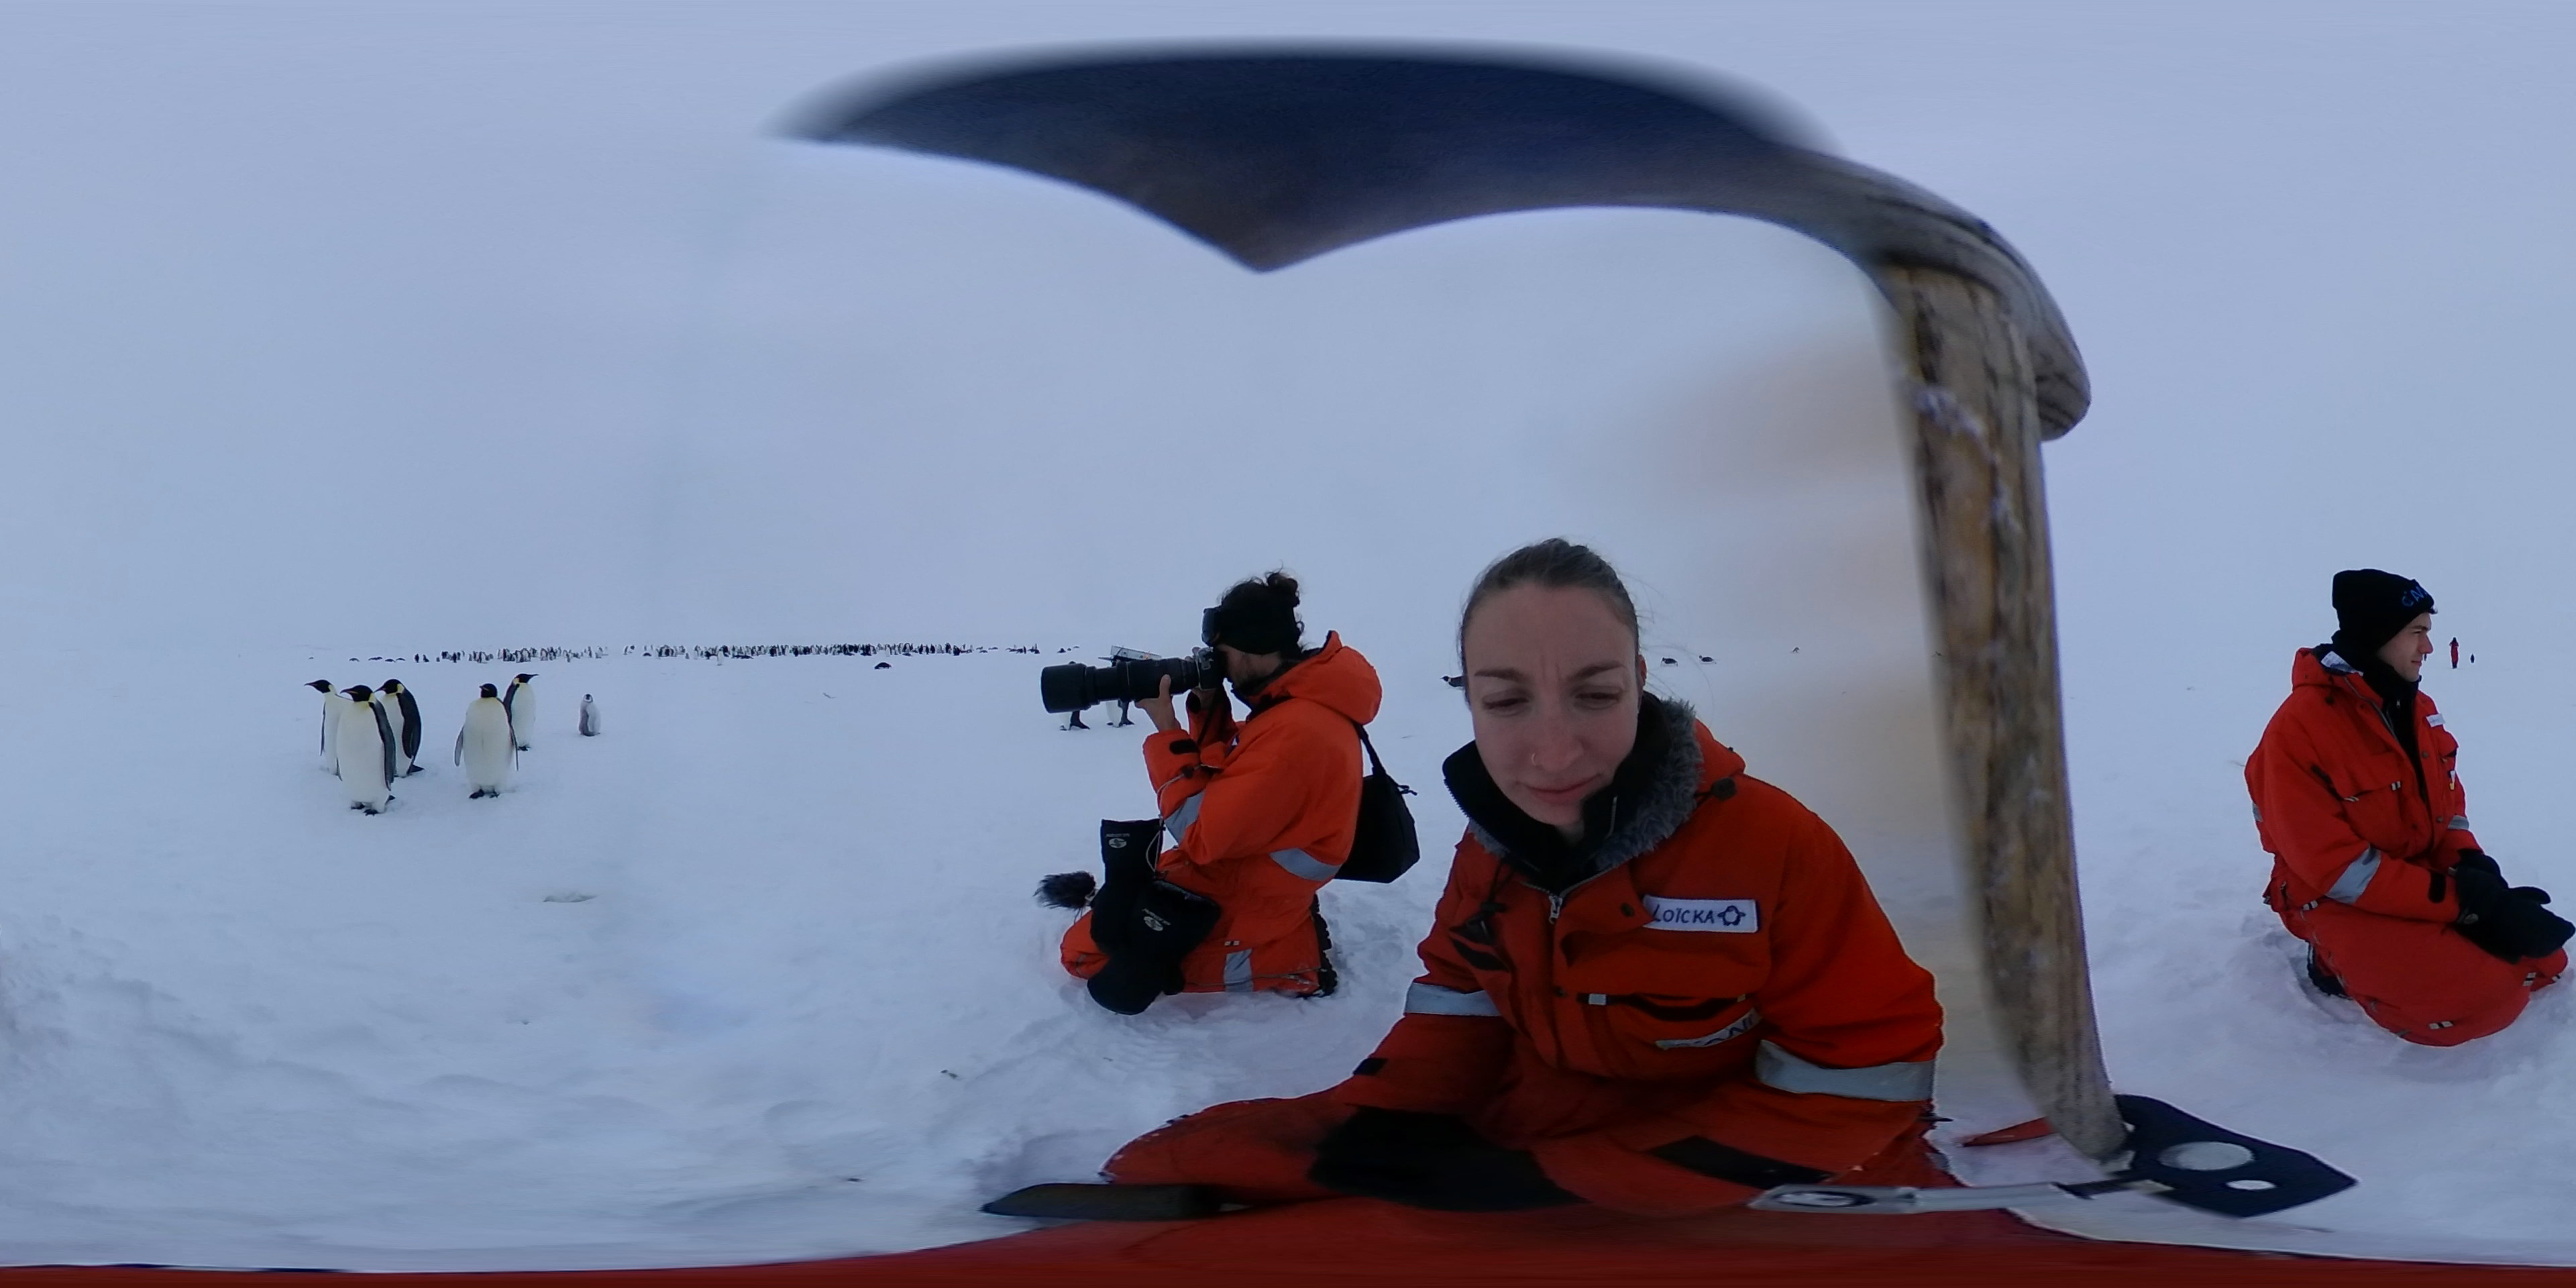adult_standing_penguin: (330, 680, 401, 825), (450, 680, 519, 807), (304, 677, 366, 782), (376, 677, 427, 780), (501, 672, 539, 754), (2469, 649, 2477, 665)
adult_toboggan_penguin: (1658, 652, 1679, 669), (874, 660, 894, 674), (1697, 652, 1717, 662)
juvenile_penguin: (573, 690, 606, 738)
researcher: (1163, 537, 1975, 1226), (2231, 568, 2576, 1050), (1065, 570, 1372, 1009), (2448, 634, 2459, 674)
